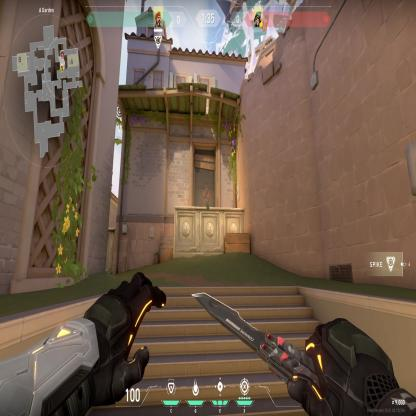enemy: (203, 185, 210, 207)
